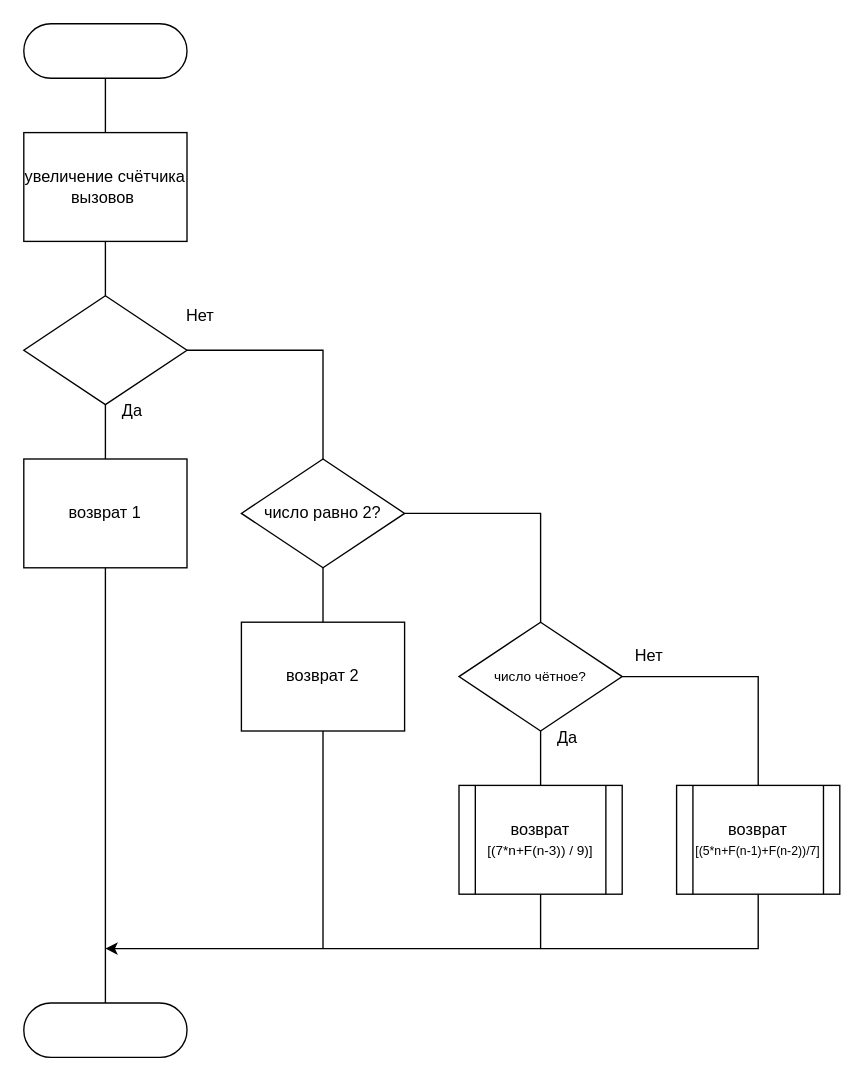
Some shapes in this 864 by 1081 pixel diagram are drawn without their labels. Each missing label, with the centre of its shape:
Конец: point 104,1029
Начало: point 104,50
число равно 1?: point 104,349
